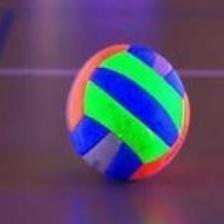Sports-Ball: (64, 44, 193, 184)
